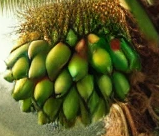PalmFruit: (5, 31, 139, 123)
